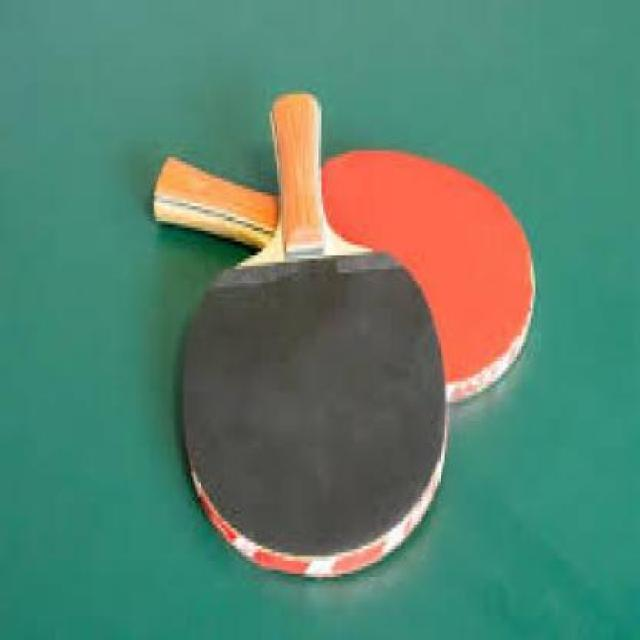table_tennis_racket: (173, 235, 447, 583), (263, 145, 540, 409)
